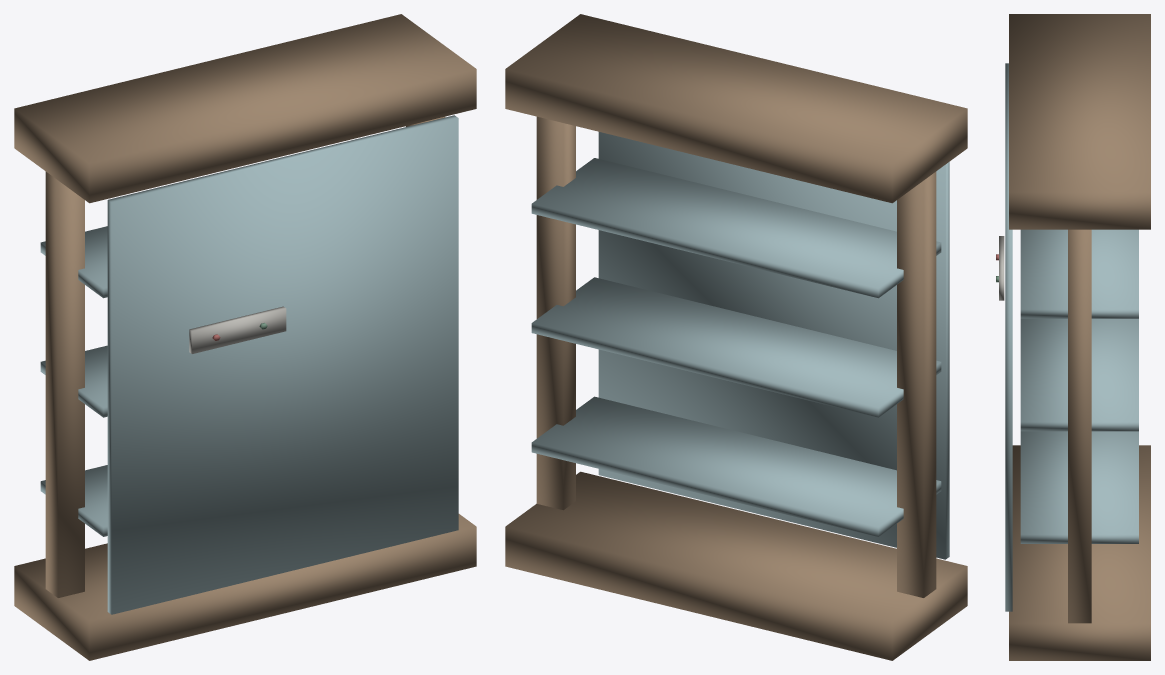
The model's file is glass_display_cabinet__wide.glb.
3 views of the same model, side by side, from view 1: azimuth 30°, elevation 25°; view 2: azimuth 150°, elevation 25°; view 3: azimuth 270°, elevation 25° (orthographic). The views are drawn at different scales.
Visible parts, largest first — view 1: world; view 2: world; view 3: world.
Part boxes in pixels (x1=…): world: x1=14, y1=14, x2=476, y2=660; world: x1=505, y1=14, x2=967, y2=660; world: x1=996, y1=14, x2=1150, y2=660.
Size of the model in its own units: 1.43 by 1.75 by 0.5235.
